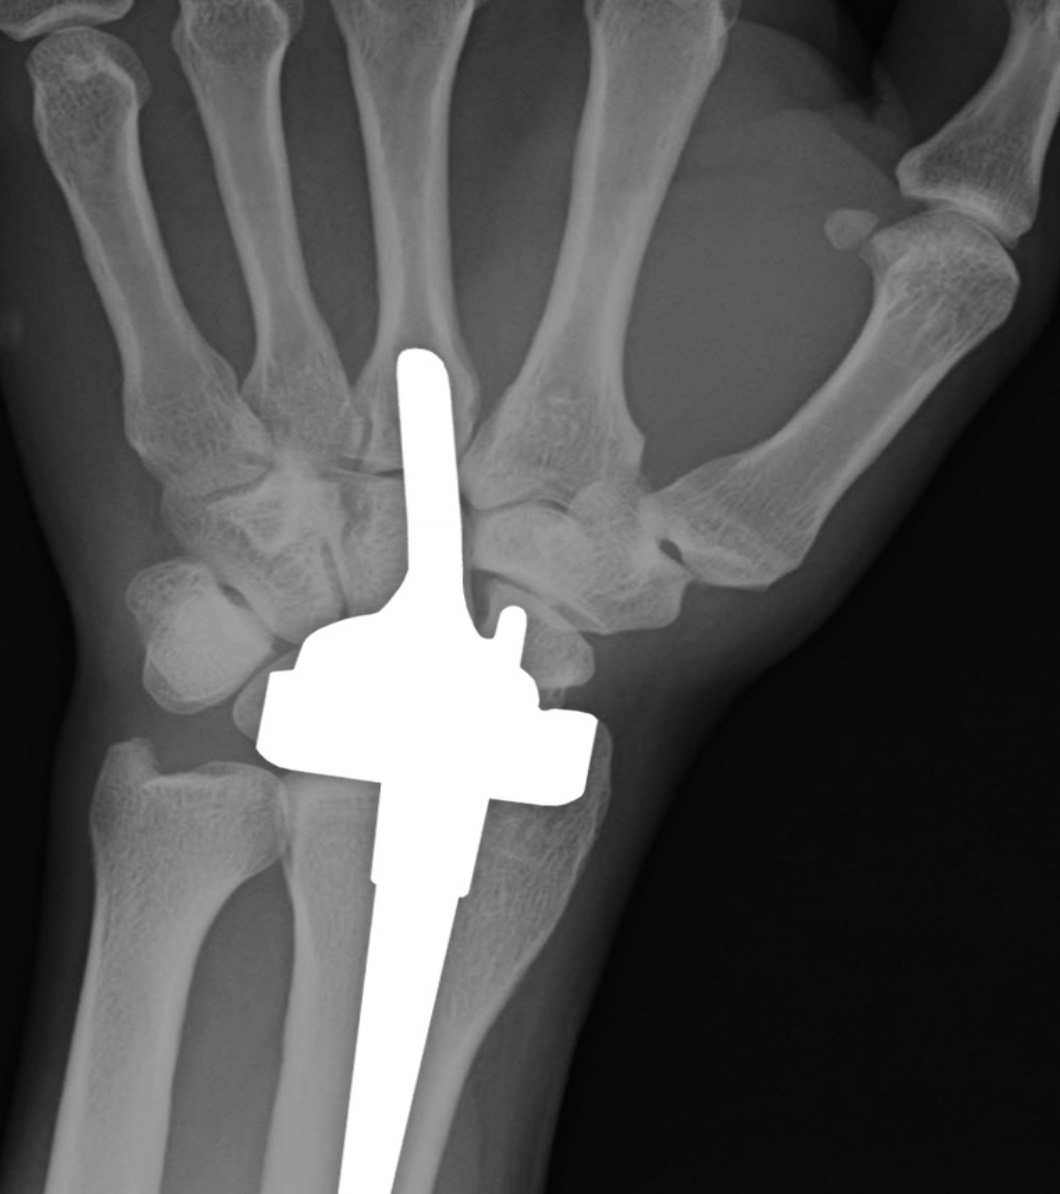Wrist-Biax-DePuuy: (221, 349, 613, 1194)
